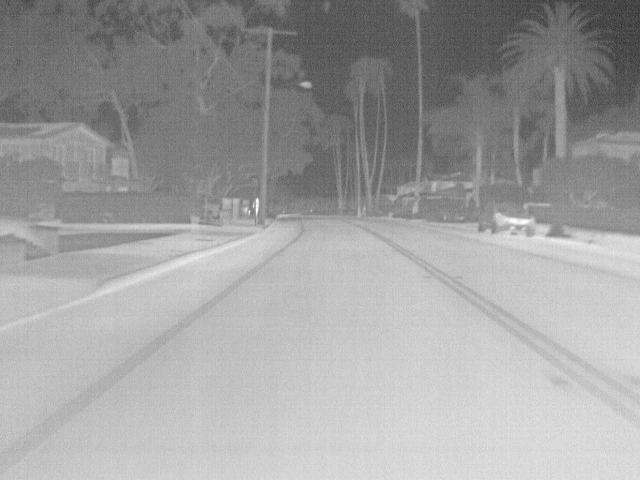car: (479, 199, 538, 236)
person: (254, 197, 260, 215)
